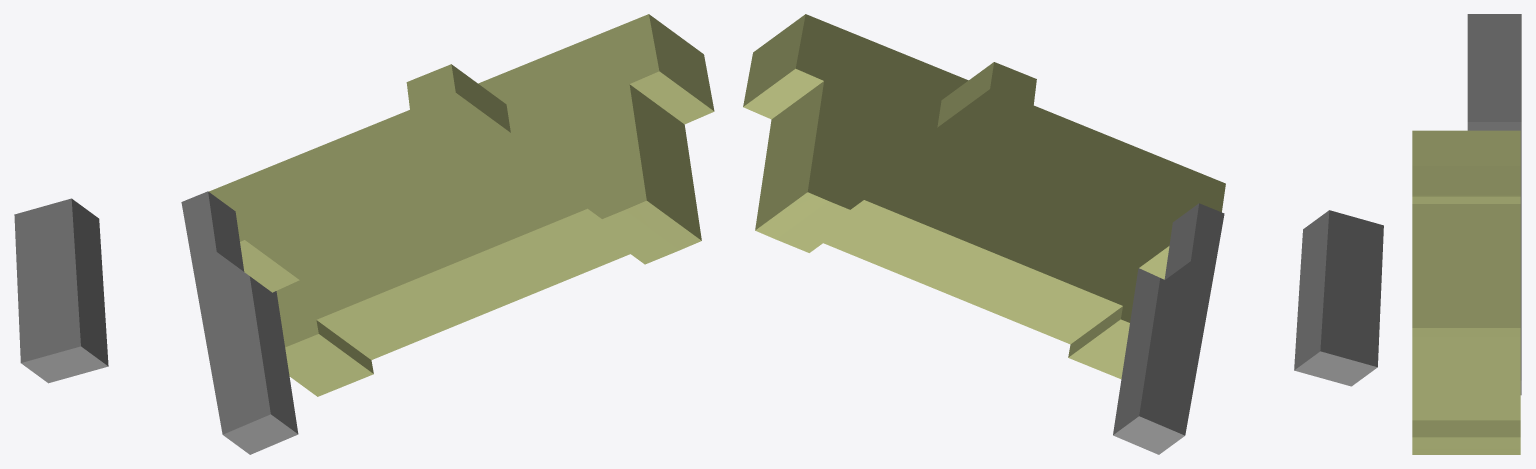
3 views of the same model, side by side, from view 1: azimuth 30°, elevation 25°; view 2: azimuth 150°, elevation 25°; view 3: azimuth 270°, elevation 25° (orthographic). The views are drawn at different scales.
Parts seen in each view (by area): view 1: 0_1_2_0_3_2; view 2: 0_1_2_0_3_2; view 3: 0_1_2_0_3_2.
Boxes of the visible parts, x1,y1,x2,y2 form: 0_1_2_0_3_2: [14, 14, 714, 454]; 0_1_2_0_3_2: [743, 14, 1383, 454]; 0_1_2_0_3_2: [1412, 14, 1521, 454].
Size of the model in its own units: 40.49 by 19.06 by 6.06.
